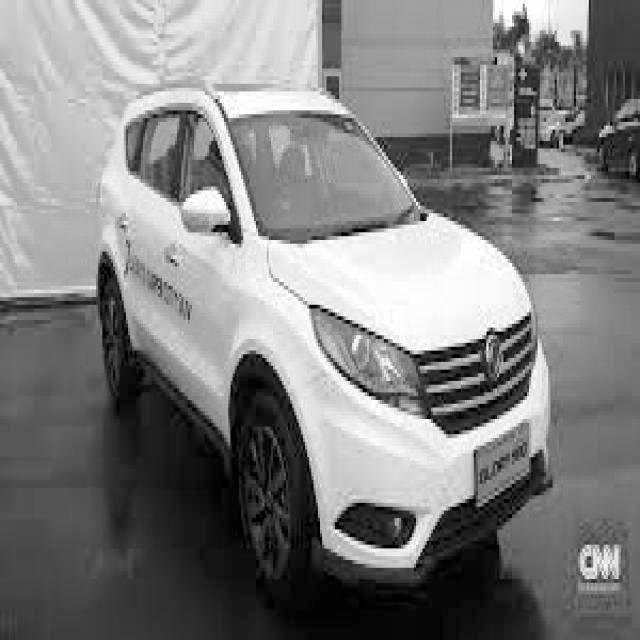Car: (97, 76, 555, 600)
